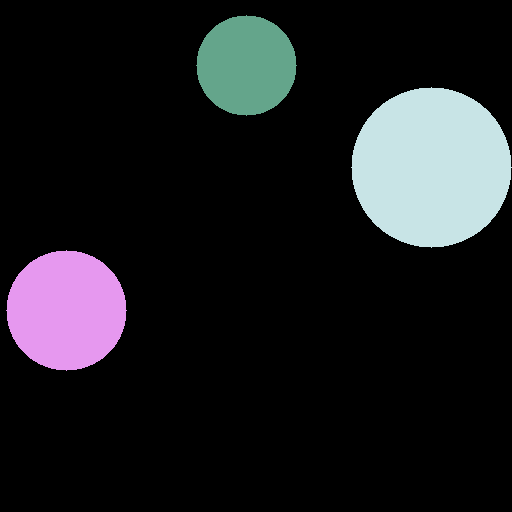circle: (351, 87, 511, 247), (6, 250, 126, 370), (196, 15, 296, 115)
